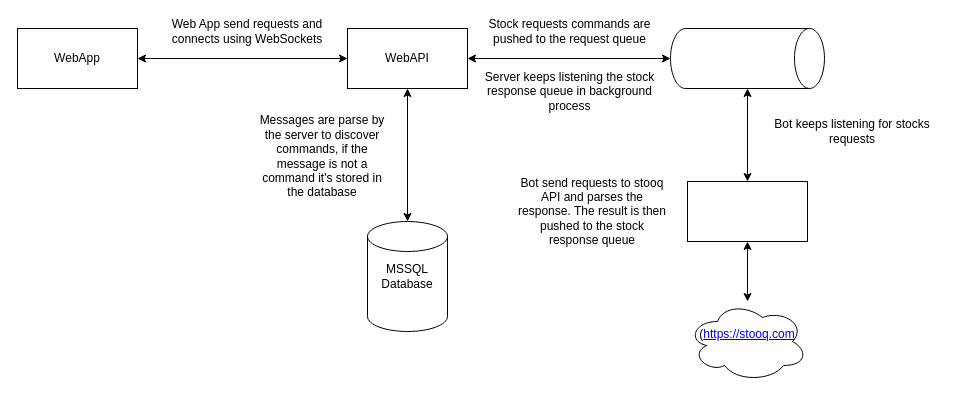
Image size: 955x399. Some labels were removed from this diagram. Here are the shapes that lost their labels. From the top down, the centre of each, then its label:
At (747,58): "RabbitMQ".
At (747,211): "StockBot".
